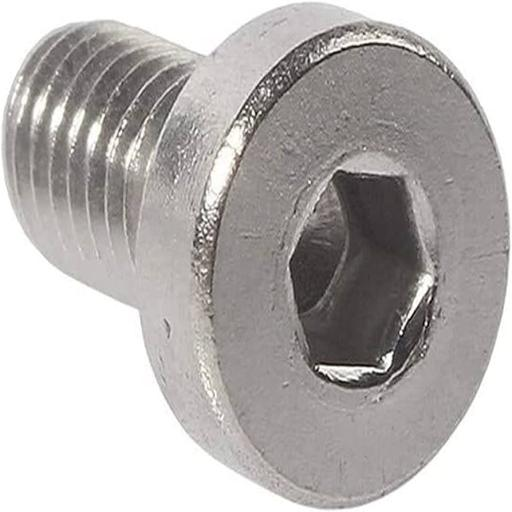Hex-Allen: (140, 9, 508, 499)
